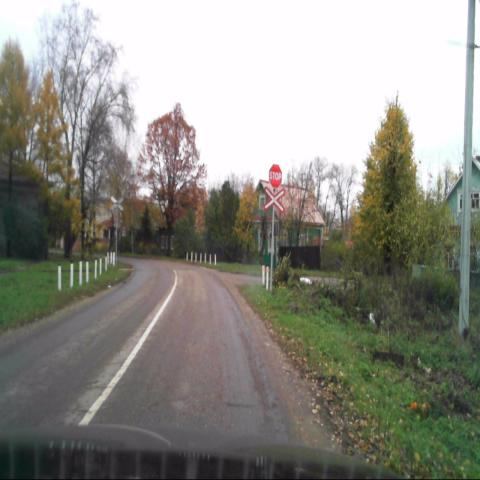2_5: (268, 163, 282, 188)
